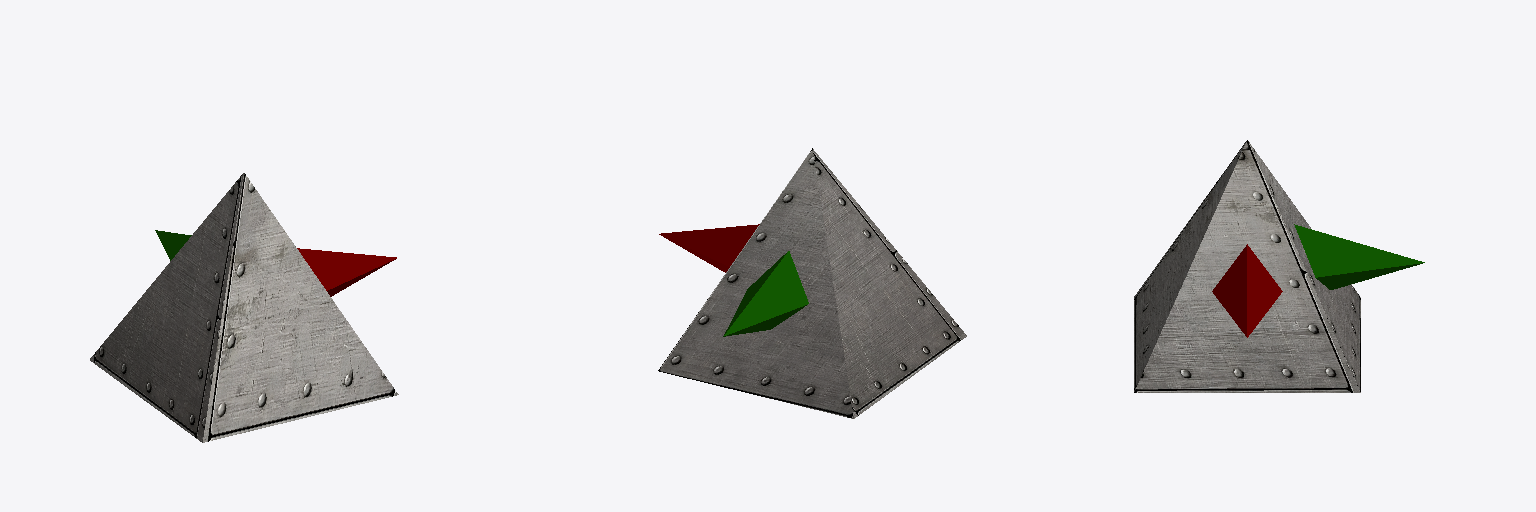
3 views of the same model, side by side, from view 1: azimuth 30°, elevation 25°; view 2: azimuth 150°, elevation 25°; view 3: azimuth 270°, elevation 25° (orthographic).
Visible parts, largest first — view 1: Cone_Cube; view 2: Cone_Cube; view 3: Cone_Cube.
Part boxes in pixels (x1,y1,x2,y2): Cone_Cube: (90,173,398,442); Cone_Cube: (658,148,966,418); Cone_Cube: (1134,140,1424,392).
Bounding box in the file's own units: 1.29 × 1 × 1.29.
3 materials, 1 textured.